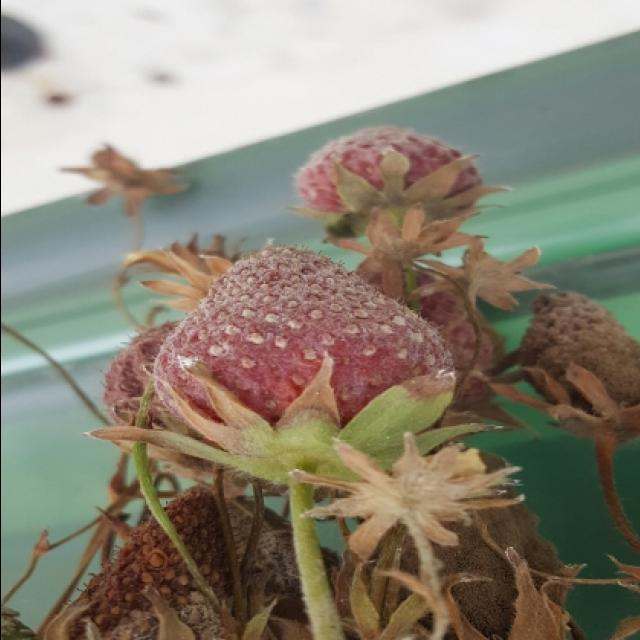Powdery Mildew Fruit: (152, 239, 453, 474), (37, 485, 360, 640), (360, 442, 564, 640), (517, 289, 640, 440)
